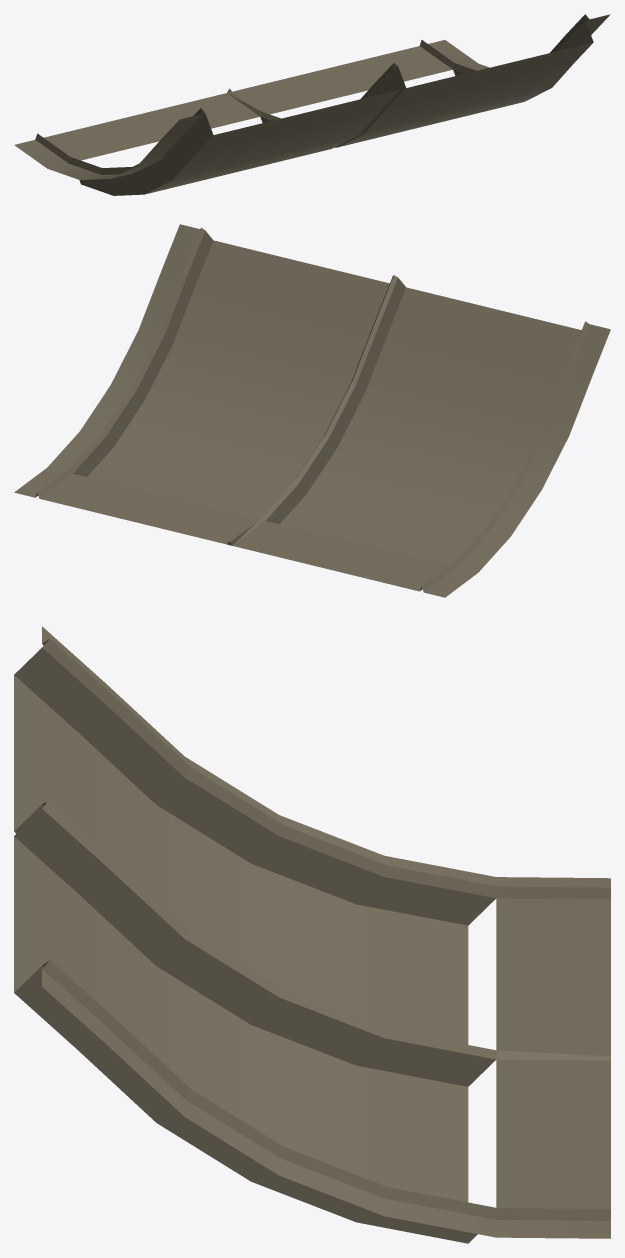
File: SM_wall_int_top_03.fbx
3 renders of one model, top to bottom at view 1: azimuth 30°, elevation 25°; view 2: azimuth 150°, elevation 25°; view 3: azimuth 270°, elevation 25°, orthographic. The views are drawn at different scales.
Visible parts, largest first — view 1: wall_int_top_03; view 2: wall_int_top_03; view 3: wall_int_top_03.
Part boxes in pixels (x1,y1,x2,y2): wall_int_top_03: (14,14,610,195); wall_int_top_03: (14,224,610,597); wall_int_top_03: (14,626,610,1243).
Size of the model in its own units: 168 by 62.1 by 118.
